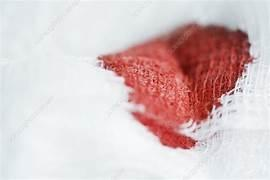cotton: (0, 0, 269, 178), (100, 24, 251, 148)
